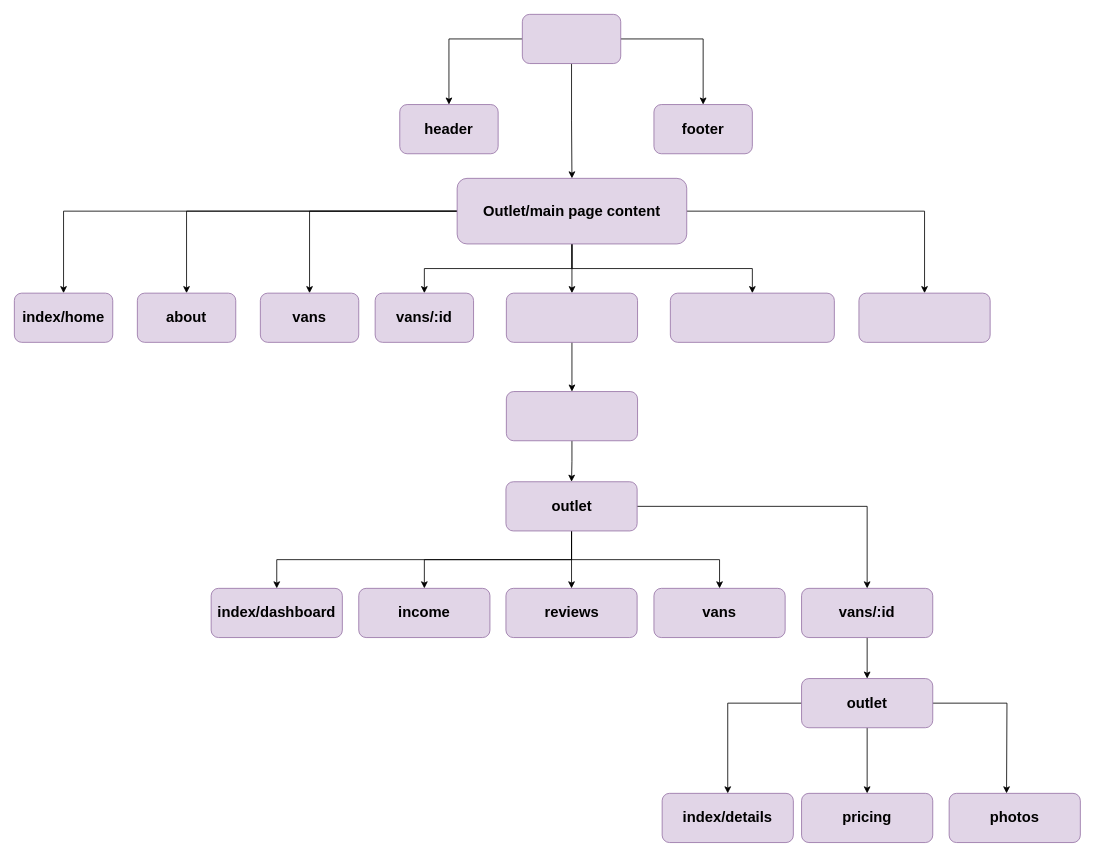
Image size: 1095x857. Some labels were removed from this diagram. The centre of each missing label's shape, as x and y in pixels:
AuthRequired: the point at 572,317
host: the point at 572,416
Layout: the point at 571,39
notfound 404: the point at 924,317
UserAccountSignIn: the point at 752,317
